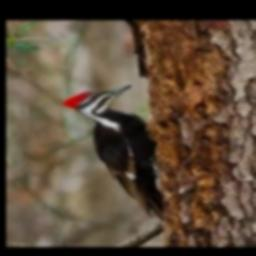Woodpecker: (64, 85, 164, 220)
